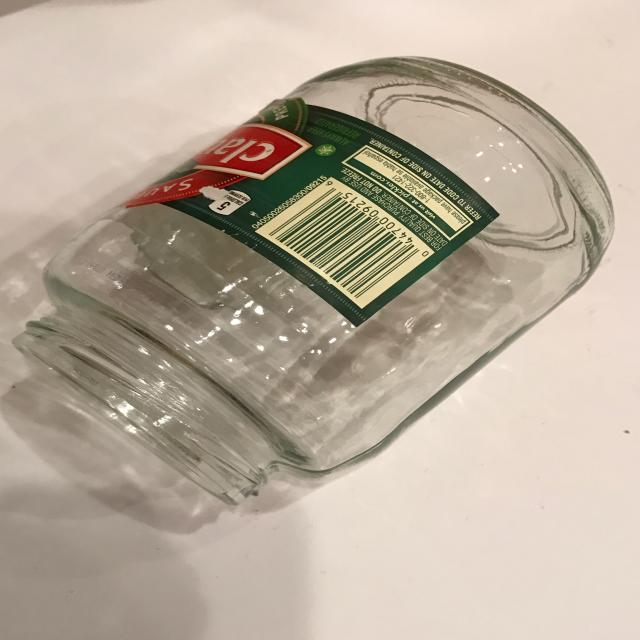glass: (11, 54, 616, 510)
